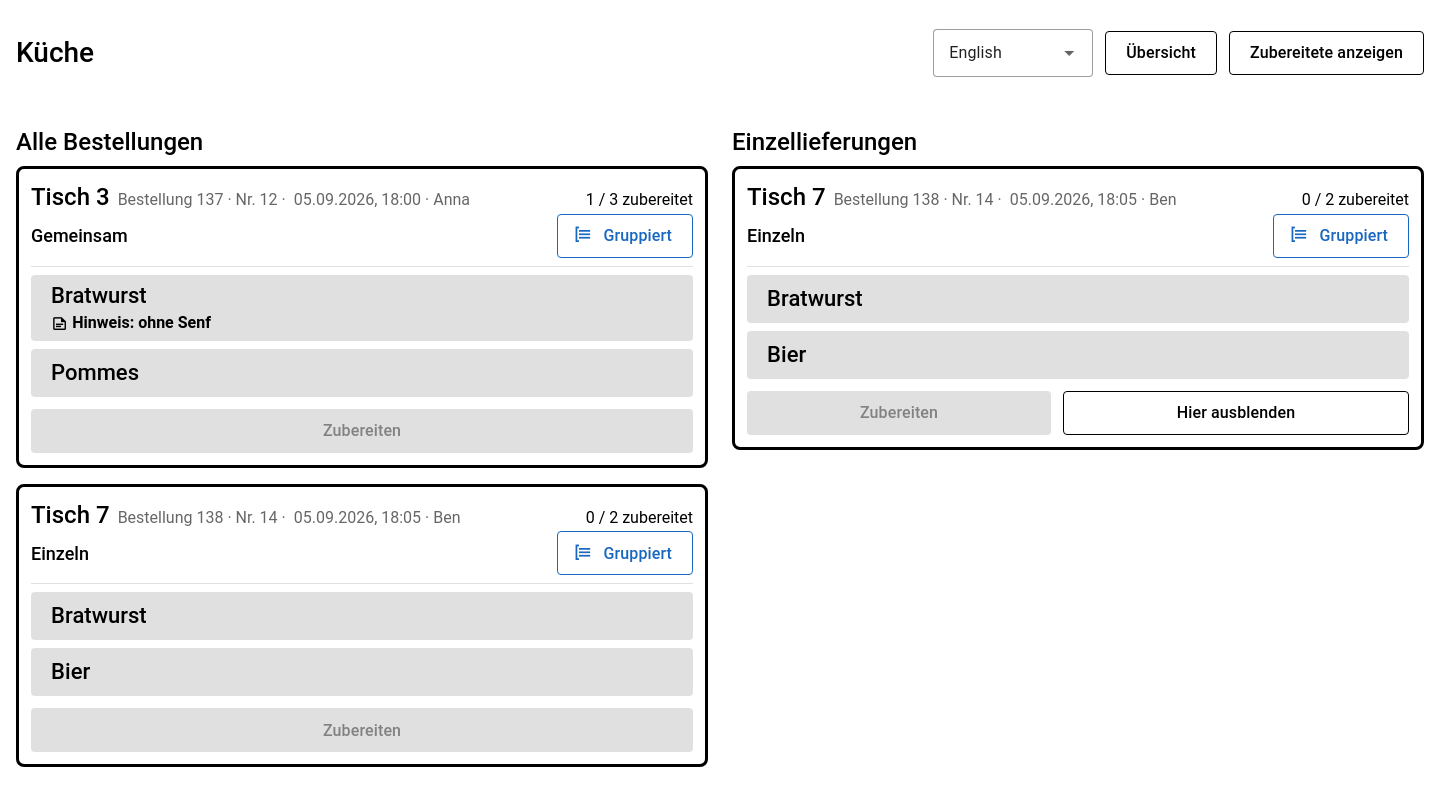
Scenario: marking selected items as done from a card › asks again on a full screen before anything is done
Click the button "Bratwurst Hinweis: ohne Senf": (362, 308) [31,275,693,341]
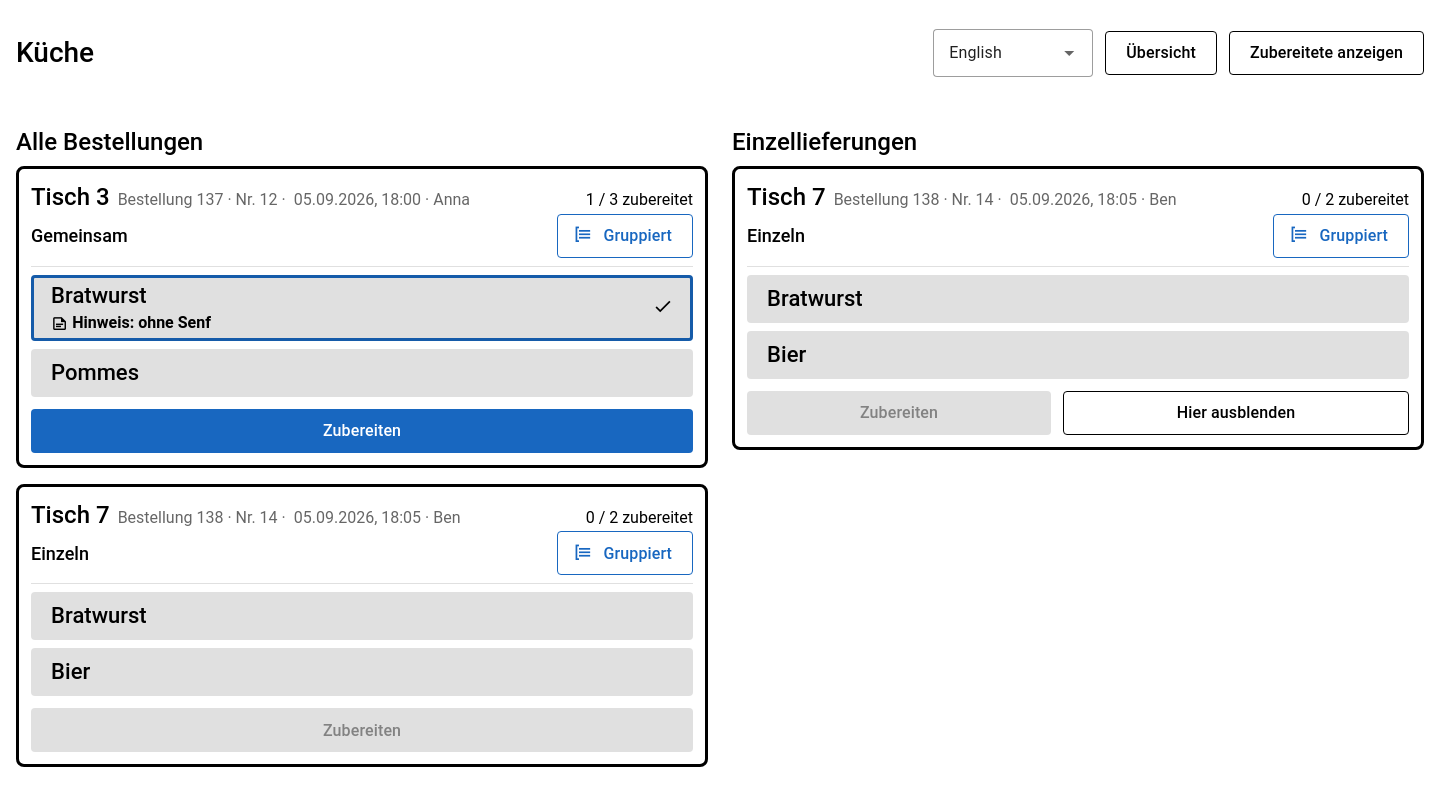
Click the button "Pommes": (362, 373) [31,349,693,397]
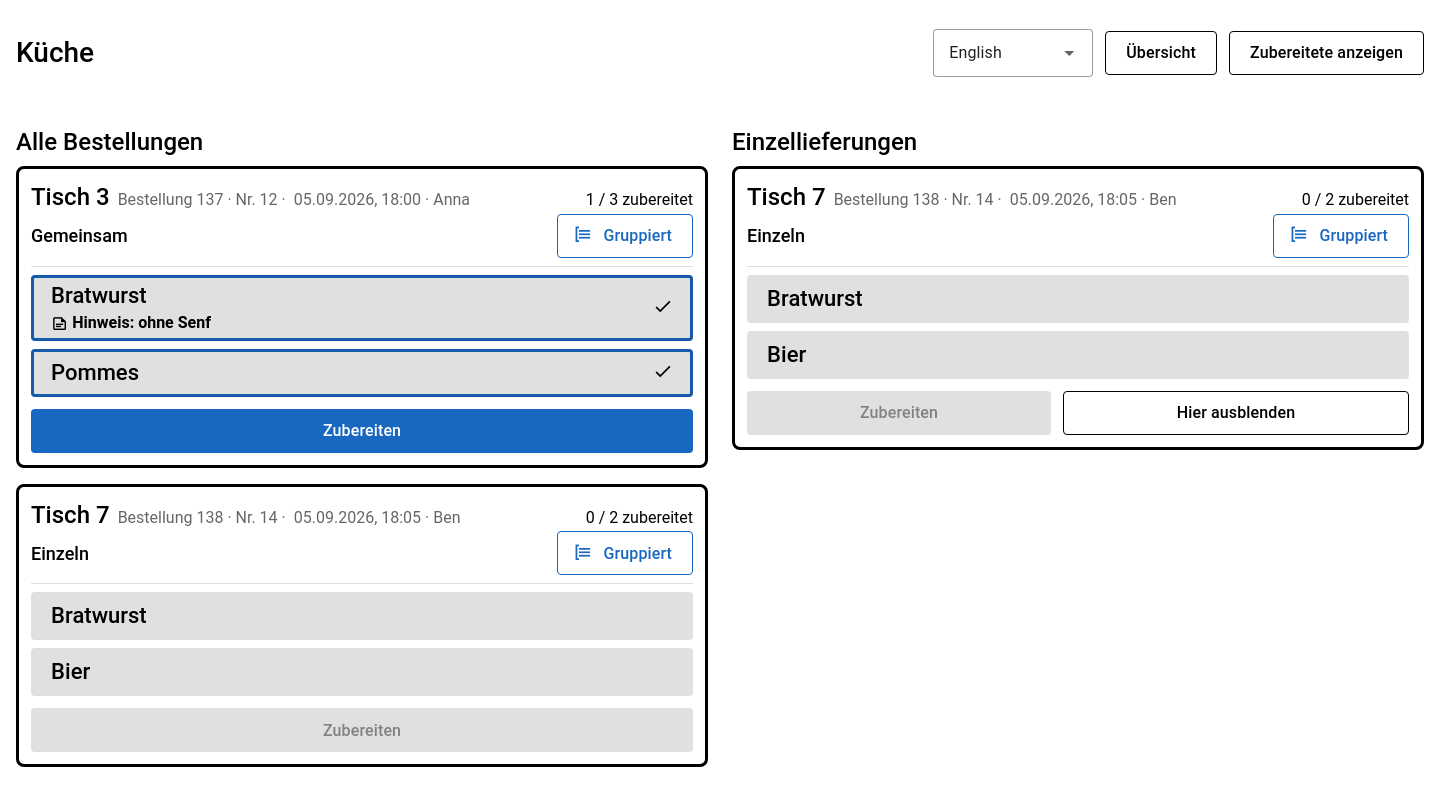
Click the button "Zubereiten" below "Gemeinsam": (362, 431) [31,409,693,453]
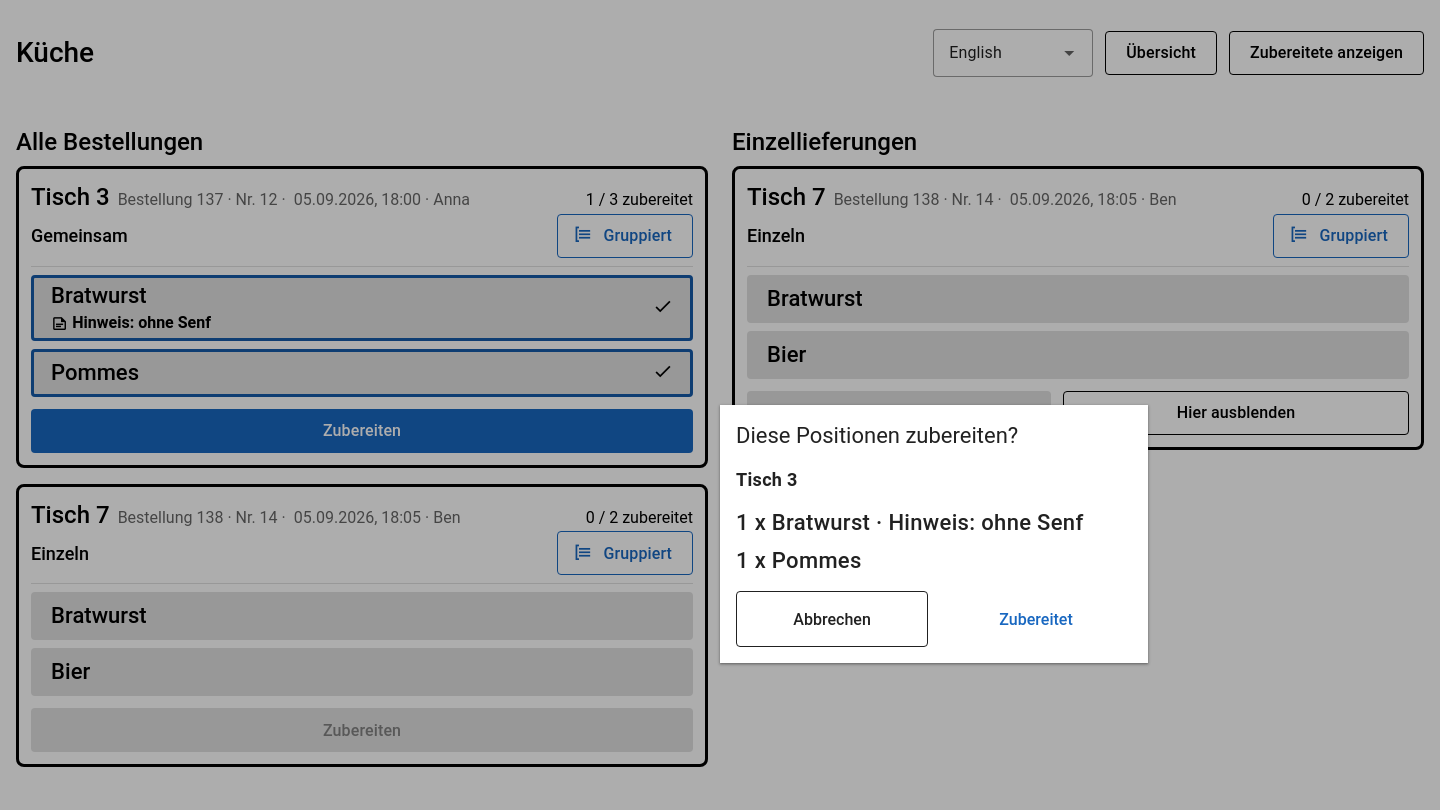
Check: the button with test id "confirm" reads "Zubereitet", box [940,591,1132,647]
Check: the button with test id "cancel" reads "Abbrechen", box [736,591,928,647]
